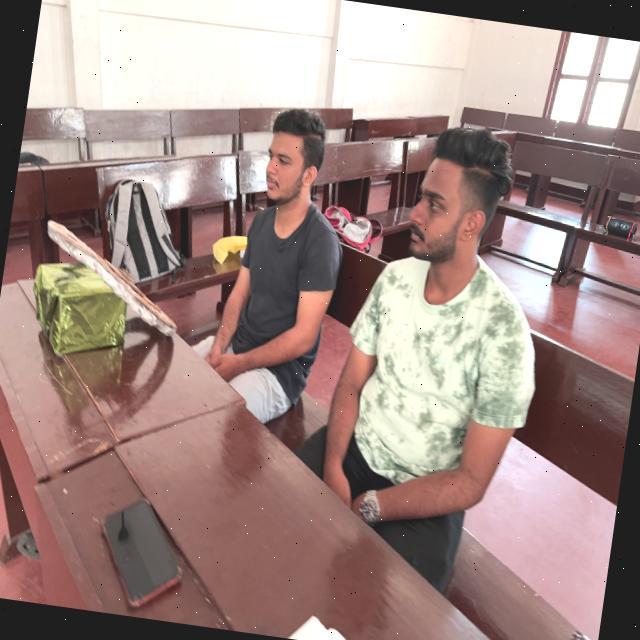no-seatbelt: (330, 238, 559, 545), (205, 197, 342, 430)
